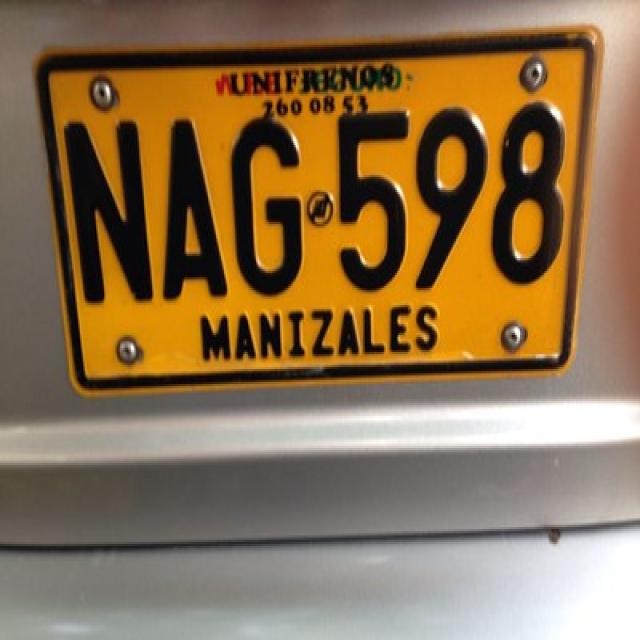placa_carro: (35, 29, 605, 396)
